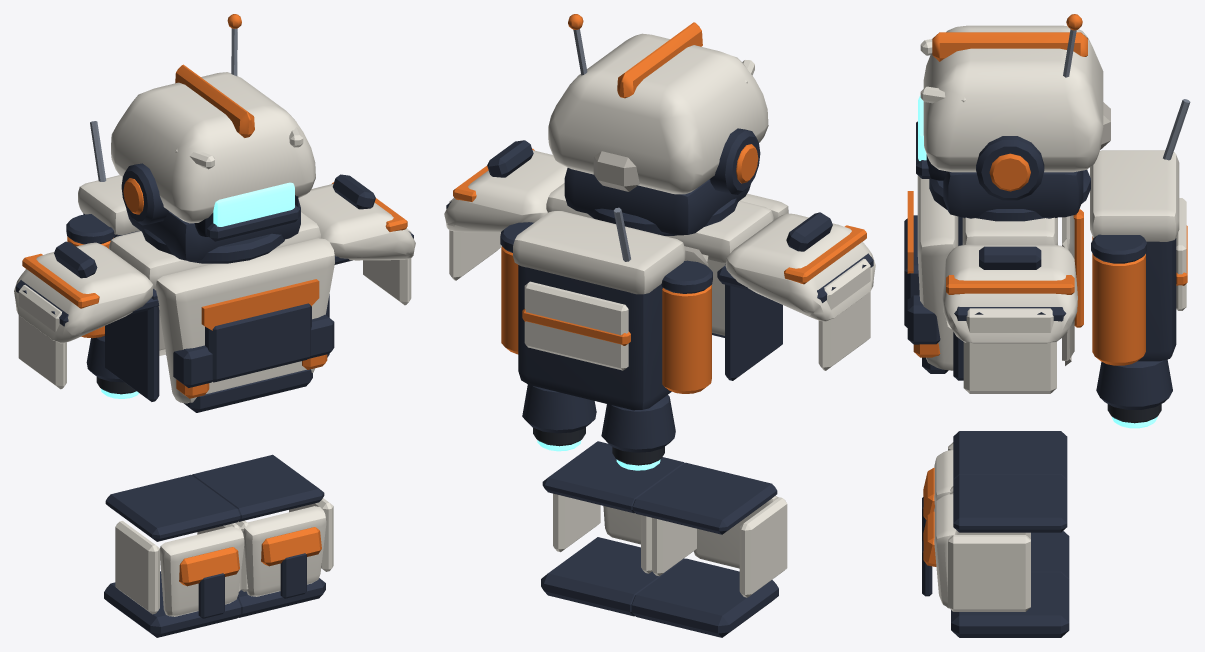
Rendered from armor_kit.fbx.
3 views of the same model, side by side, from view 1: azimuth 30°, elevation 25°; view 2: azimuth 150°, elevation 25°; view 3: azimuth 270°, elevation 25° (orthographic). The views are drawn at different scales.
Visible parts, largest first — view 1: ChestPlate, Helmet, Shin_R, Shin_L, Pauldron_R, Pauldron_L, Backpack, Visor; view 2: Backpack, Helmet, Shin_R, Shin_L, Pauldron_R, ChestPlate, Pauldron_L; view 3: Helmet, Backpack, Shin_L, Pauldron_L, ChestPlate, Shin_R.
Boxes of the visible parts, x1,y1,x2,y2 form: ChestPlate: [105, 212, 334, 412]; Helmet: [111, 14, 315, 260]; Shin_R: [104, 474, 248, 637]; Shin_L: [192, 454, 333, 617]; Pauldron_R: [14, 241, 159, 389]; Pauldron_L: [298, 174, 415, 305]; Backpack: [66, 121, 140, 394]; Visor: [213, 182, 294, 226]; Backpack: [500, 207, 712, 465]; Helmet: [548, 14, 768, 235]; Shin_R: [631, 462, 787, 637]; Shin_L: [541, 441, 696, 616]; Pauldron_R: [717, 212, 875, 370]; ChestPlate: [546, 183, 788, 380]; Pauldron_L: [444, 140, 567, 280]; Helmet: [916, 14, 1110, 217]; Backpack: [1090, 99, 1190, 423]; Shin_L: [922, 474, 1069, 637]; Pauldron_L: [942, 244, 1077, 393]; ChestPlate: [904, 170, 1090, 380]; Shin_R: [922, 431, 1069, 579].
Size of the model in its own units: 4.37 by 6.45 by 2.76.
4 materials, 1 textured.
